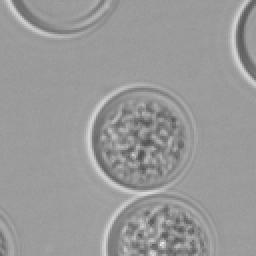picoshell: (86, 84, 196, 194), (106, 194, 214, 254), (4, 0, 118, 38), (230, 0, 254, 86), (0, 208, 18, 254)
